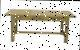Mesa: (4, 10, 76, 44)
